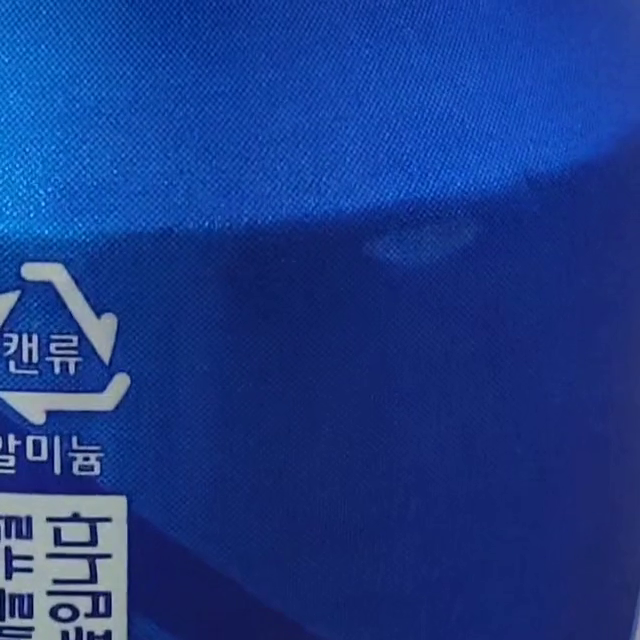Can: (1, 261, 132, 424)
